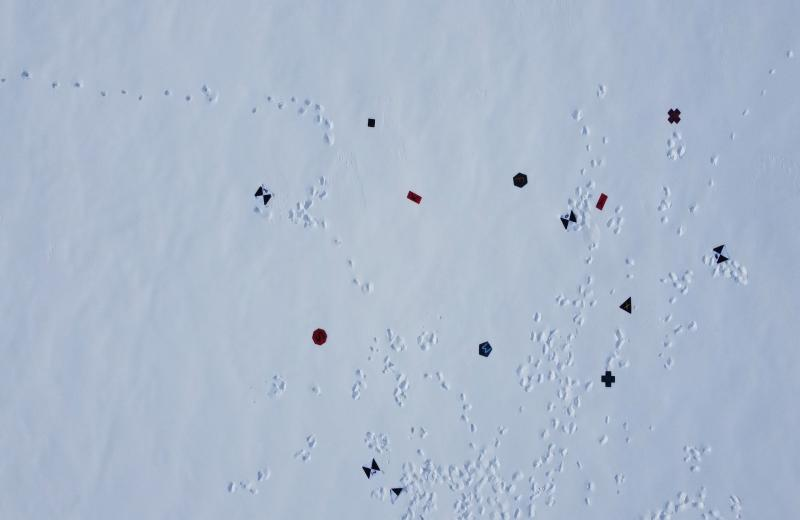Cross: (600, 369, 616, 388), (668, 108, 682, 124)
Hexagon: (512, 171, 528, 189)
Octagon: (311, 326, 328, 346)
Pentagon: (478, 340, 493, 359)
Rectangle: (595, 191, 609, 211), (406, 190, 422, 206)
Square: (367, 118, 376, 129)
Triangle: (618, 296, 634, 315)
